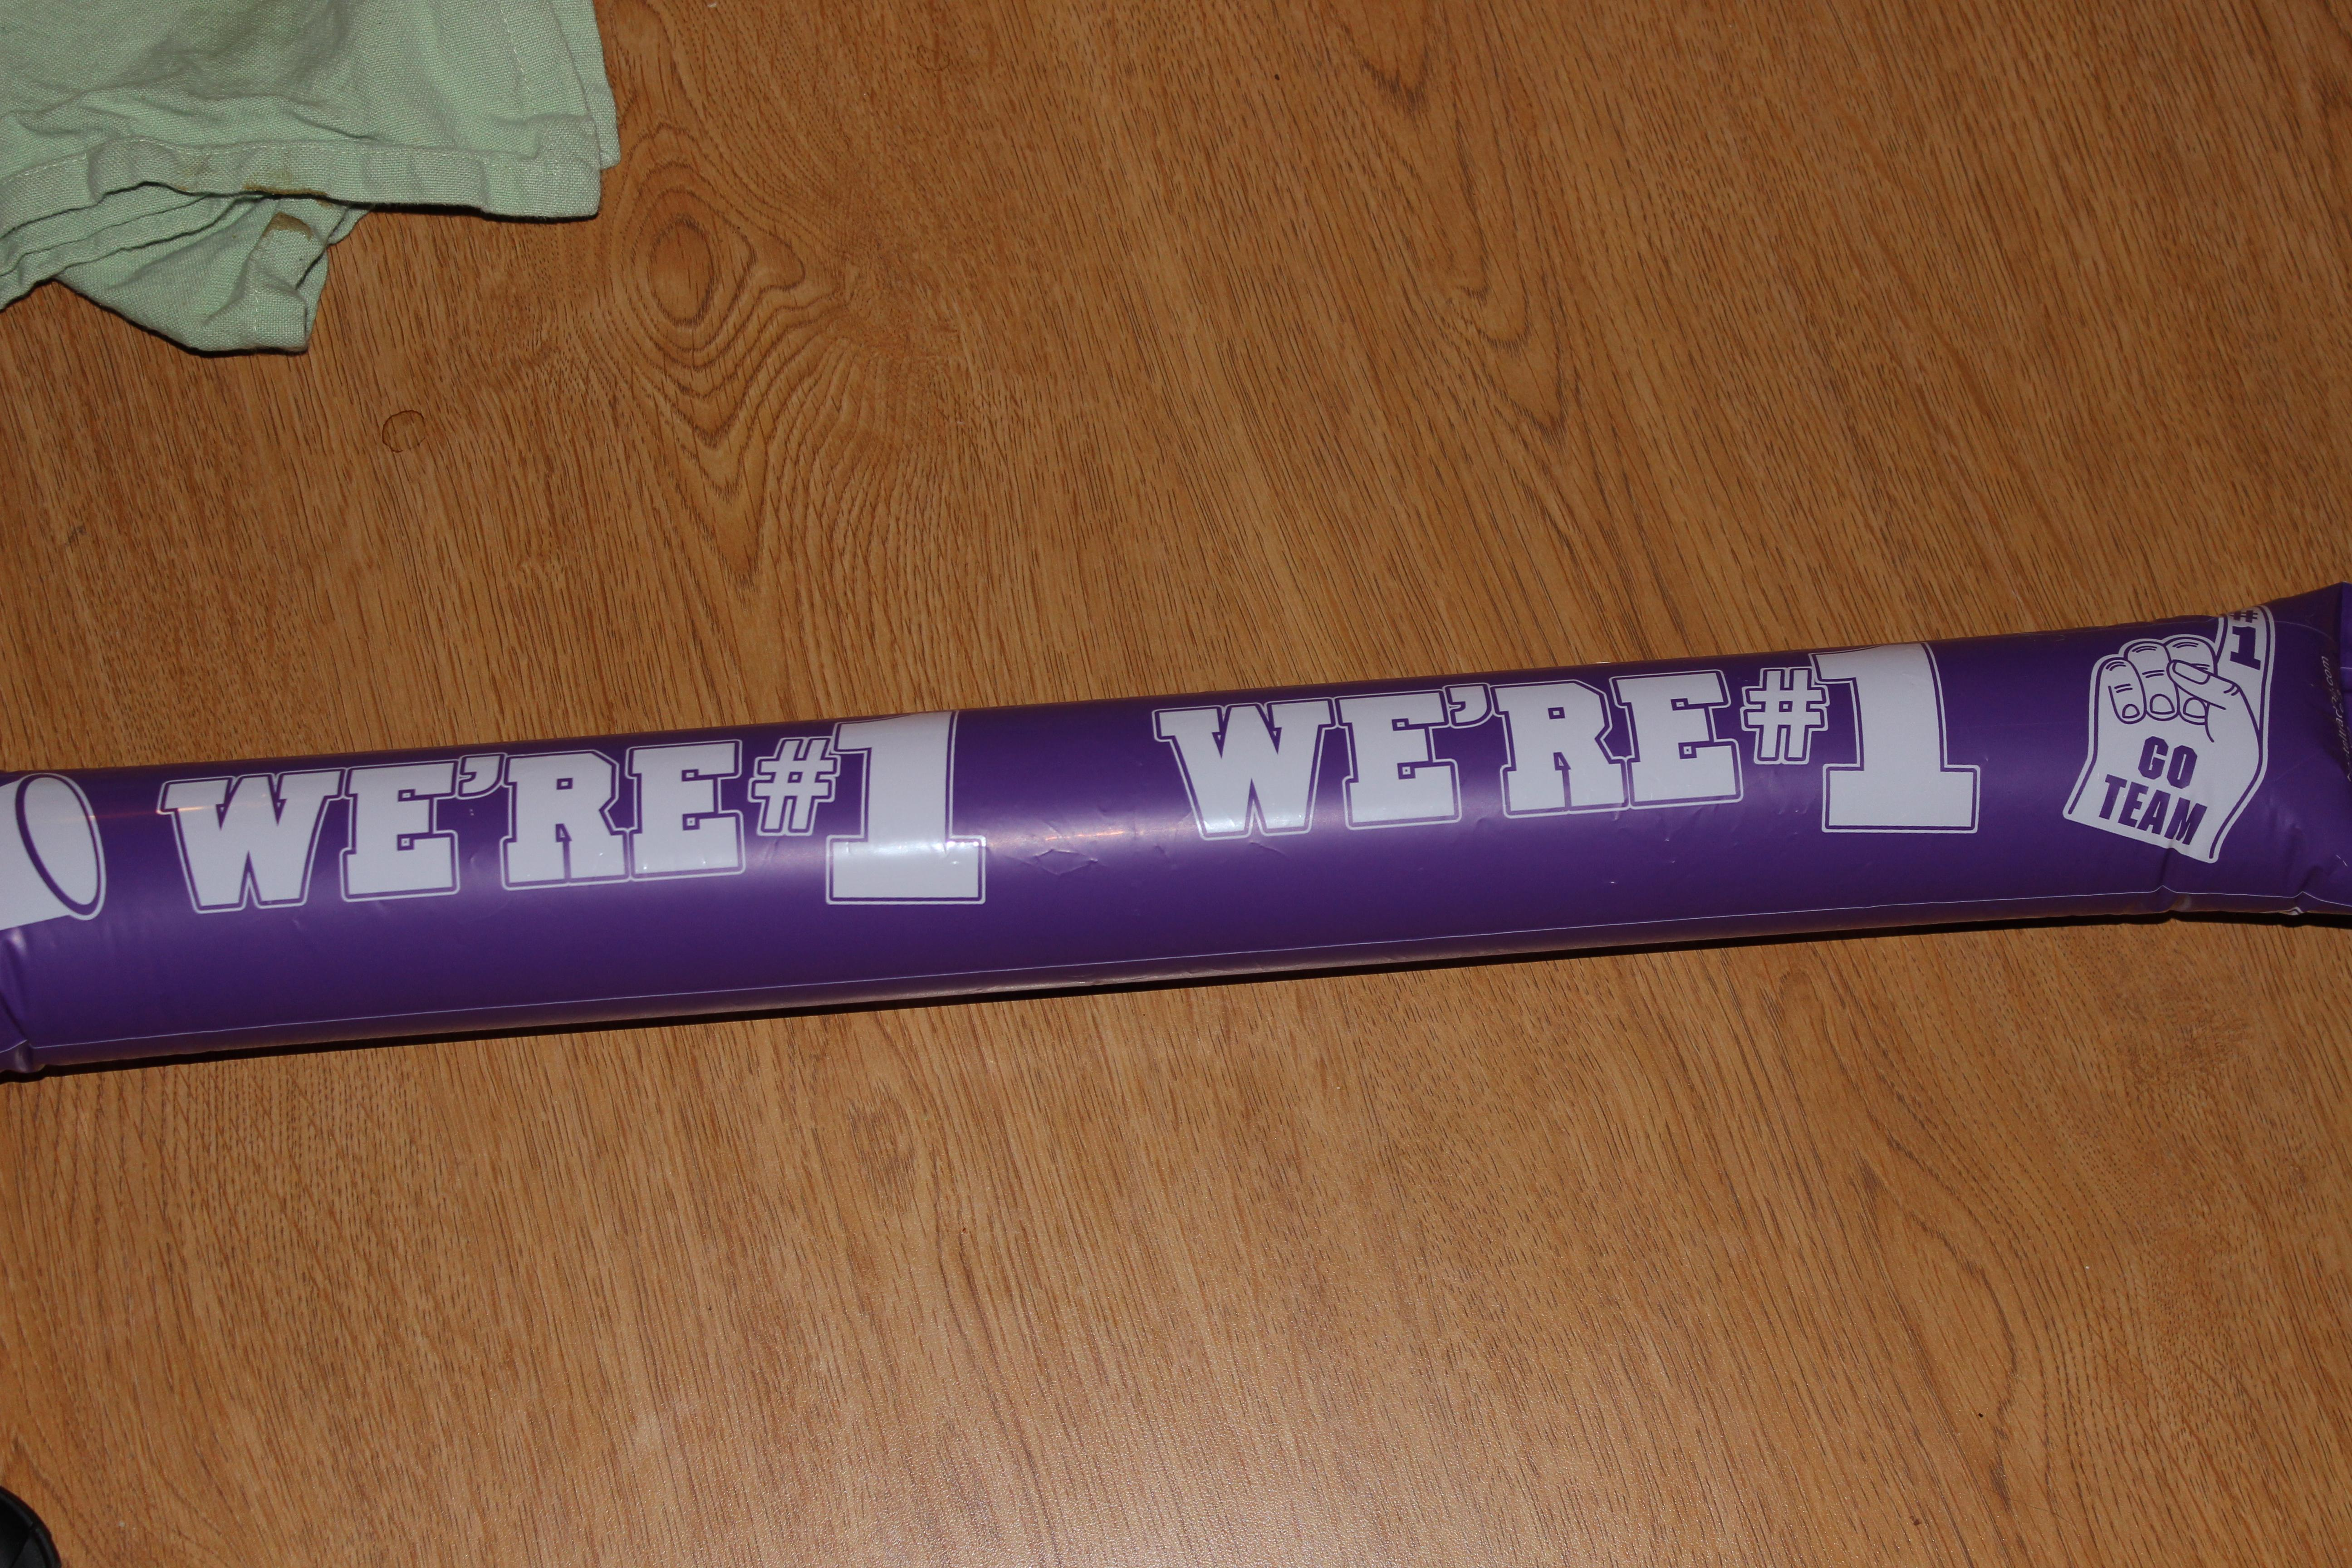noisemaker: (0, 488, 2352, 1138)
